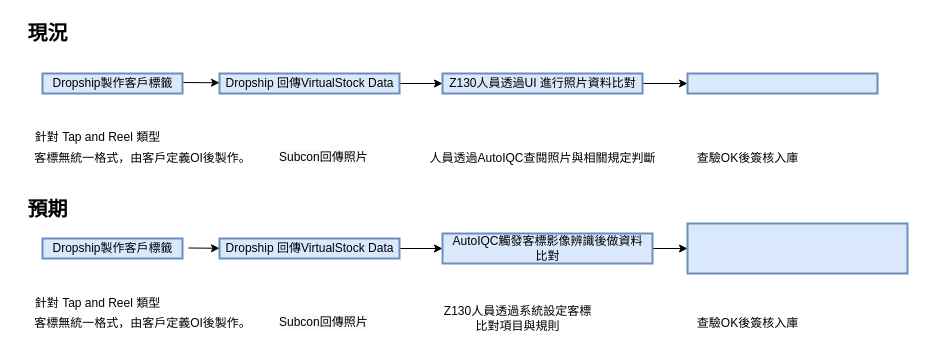
The diagram is 925 pixels wide and 355 high, and some of its shapes have lost their labels. The box of each missing label's shape, as (x1, y1, x2, y2) in pixels:
*比對符合規則後做簽核,SAP系統入庫 *不符合規則之標籤將被 分派由人員進行人工比對: (686, 222, 908, 274)
Z130人員執行簽核,SAP系統入庫: (686, 72, 878, 94)
